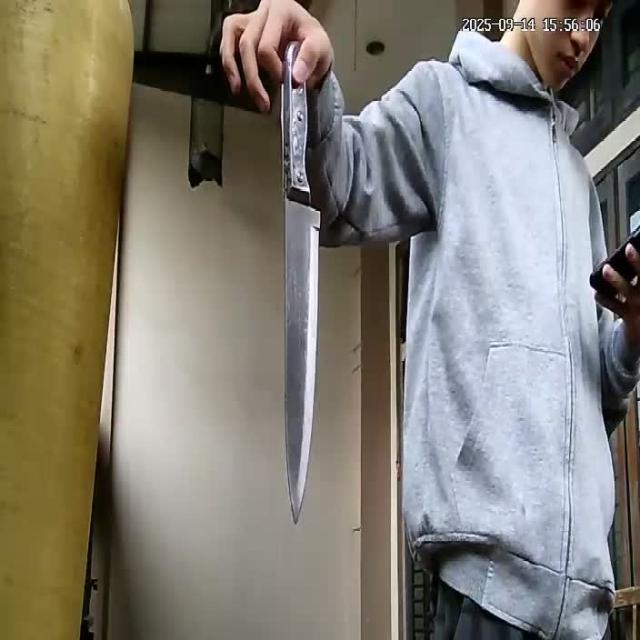senjata_tajam: (281, 84, 322, 525)
